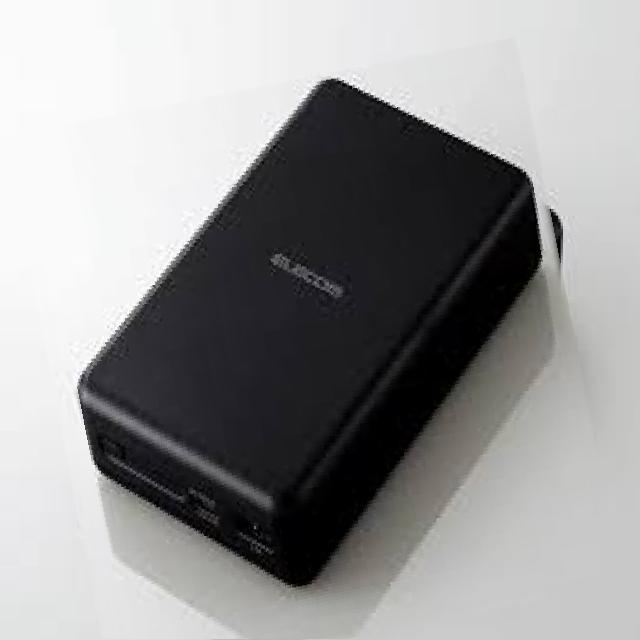Battery: (66, 68, 546, 611)
